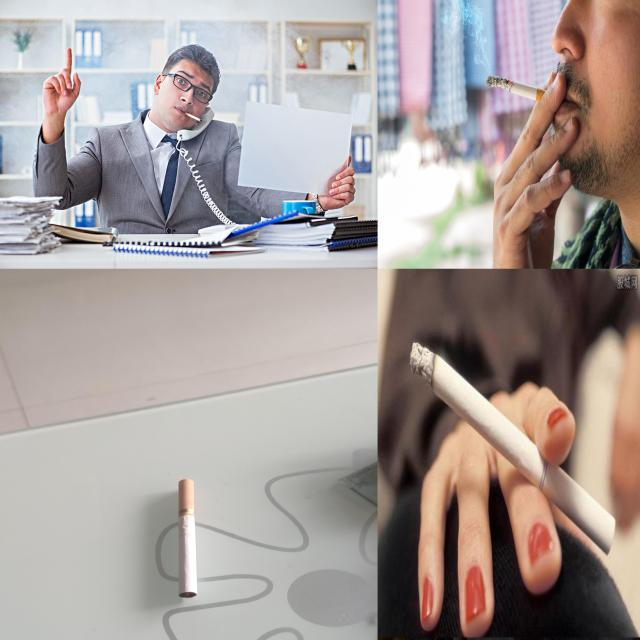smoking: (409, 342, 616, 556), (178, 479, 201, 598), (483, 69, 553, 108), (184, 111, 204, 122)
